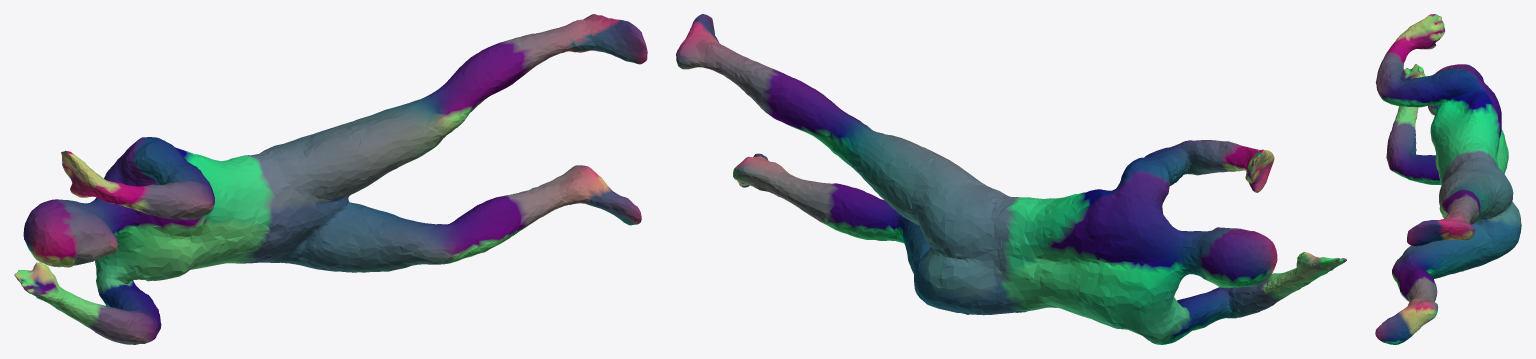
File: man-17.off.obj
3 renders of one model, left to right at view 1: azimuth 30°, elevation 25°; view 2: azimuth 150°, elevation 25°; view 3: azimuth 270°, elevation 25°, orthographic. The views are drawn at different scales.
Size of the model in its own units: 1.6 by 0.4856 by 0.4311.
